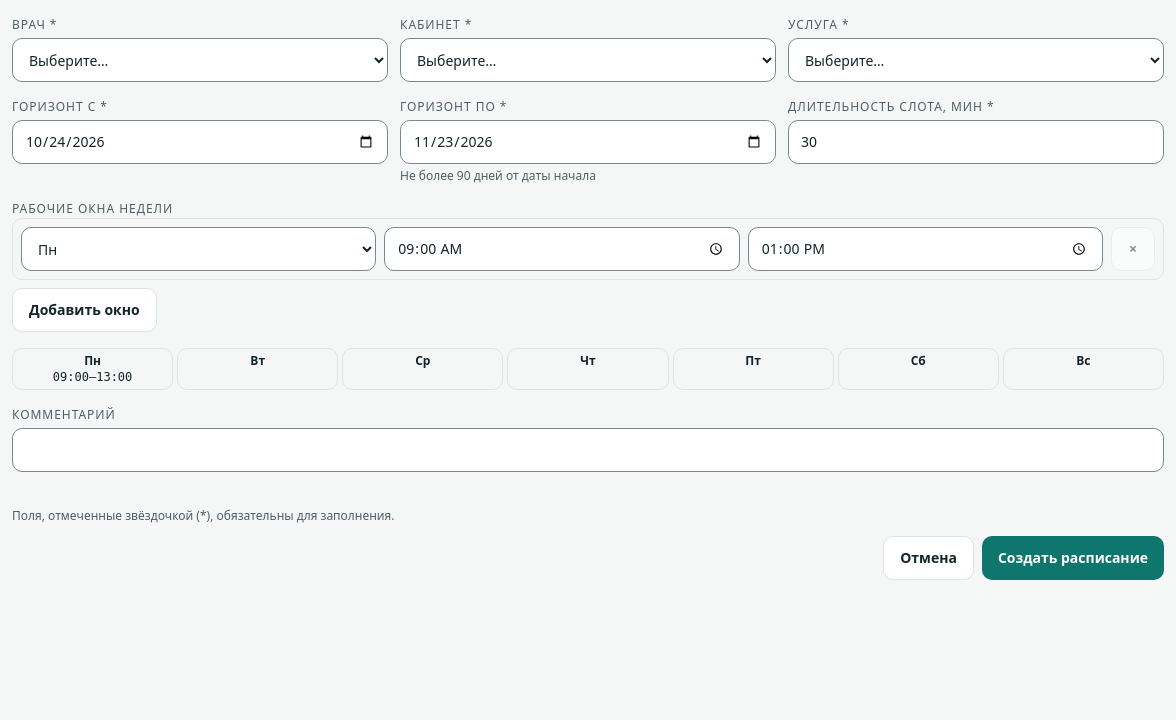
Test: ScheduleEditor (create) › should ask for the three actors and send nothing when they are not chosen
Click the button "Создать расписание".
click(1073, 558)  # box x1=982 y1=536 x2=1164 y2=580
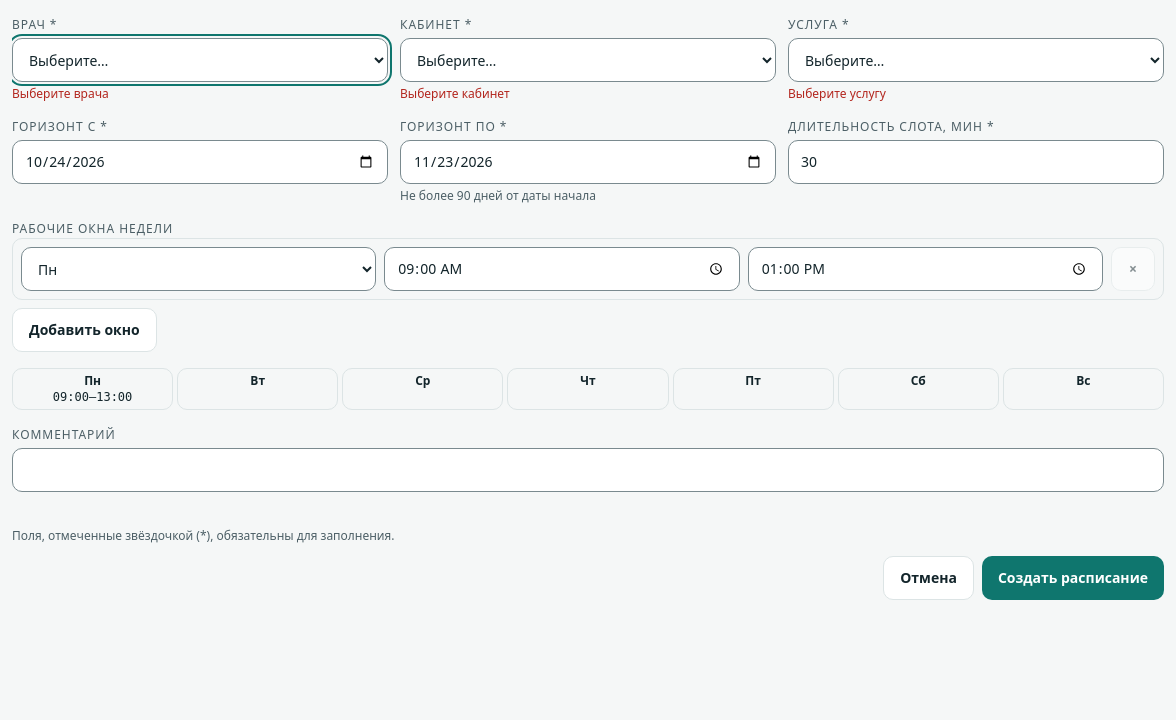
Check: the text "Выберите врача" is shown, box x1=12 y1=85 x2=109 y2=102
Check: the text "Выберите кабинет" is shown, box x1=400 y1=85 x2=510 y2=102
Check: the text "Выберите услугу" is shown, box x1=788 y1=85 x2=886 y2=102
